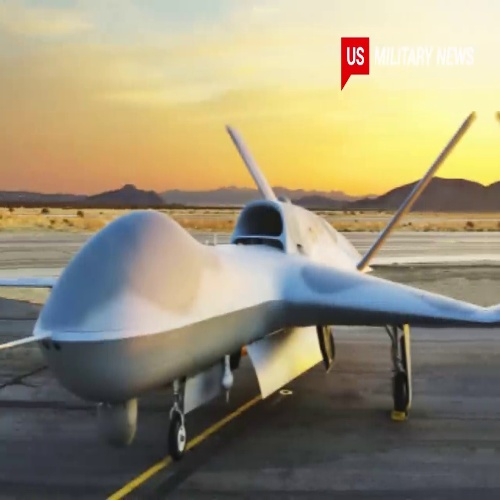uav: (2, 116, 500, 456)
